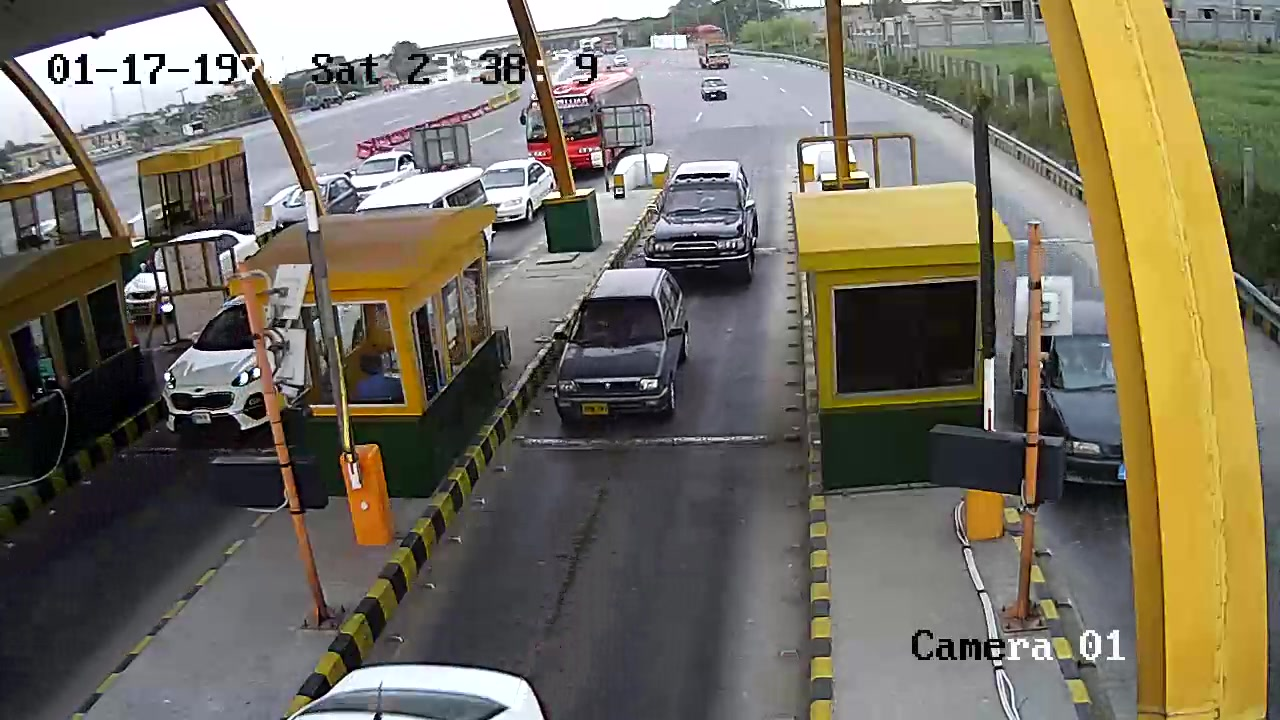F1: (552, 267, 704, 436)
